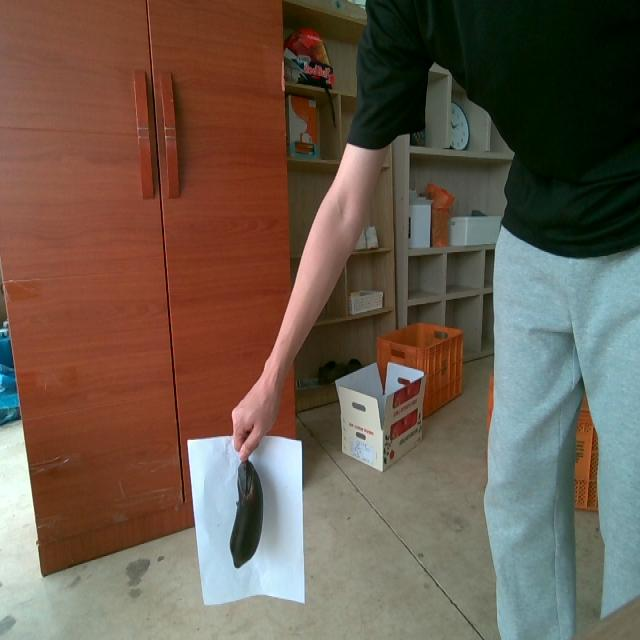Egg plant: (230, 460, 262, 567)
